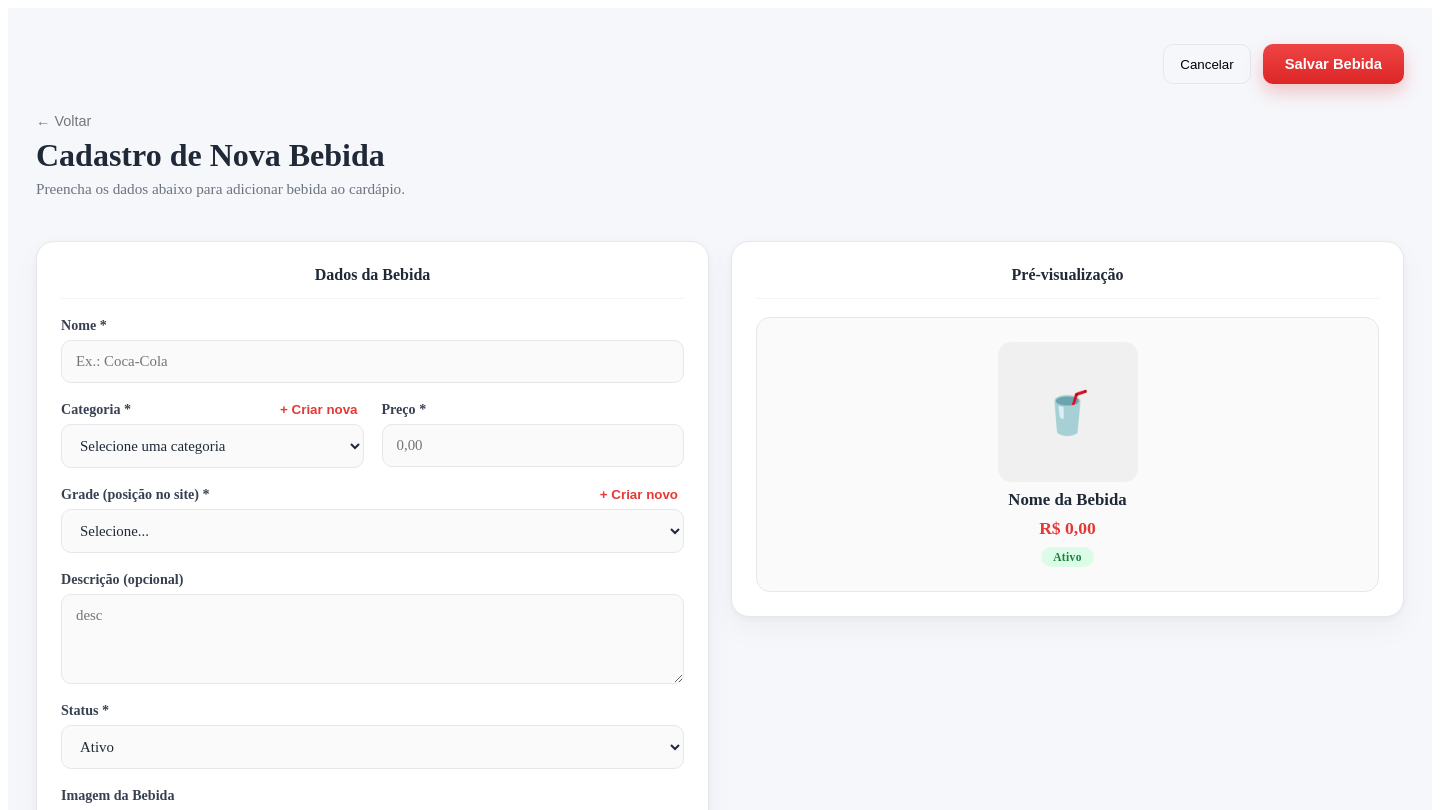
Test: ModalBebida - criação › pré-visualização mostra o preço formatado enquanto digita
Type "8,5" into the field with placeholder "0,00" at (533, 446), box [382,424,684,467]
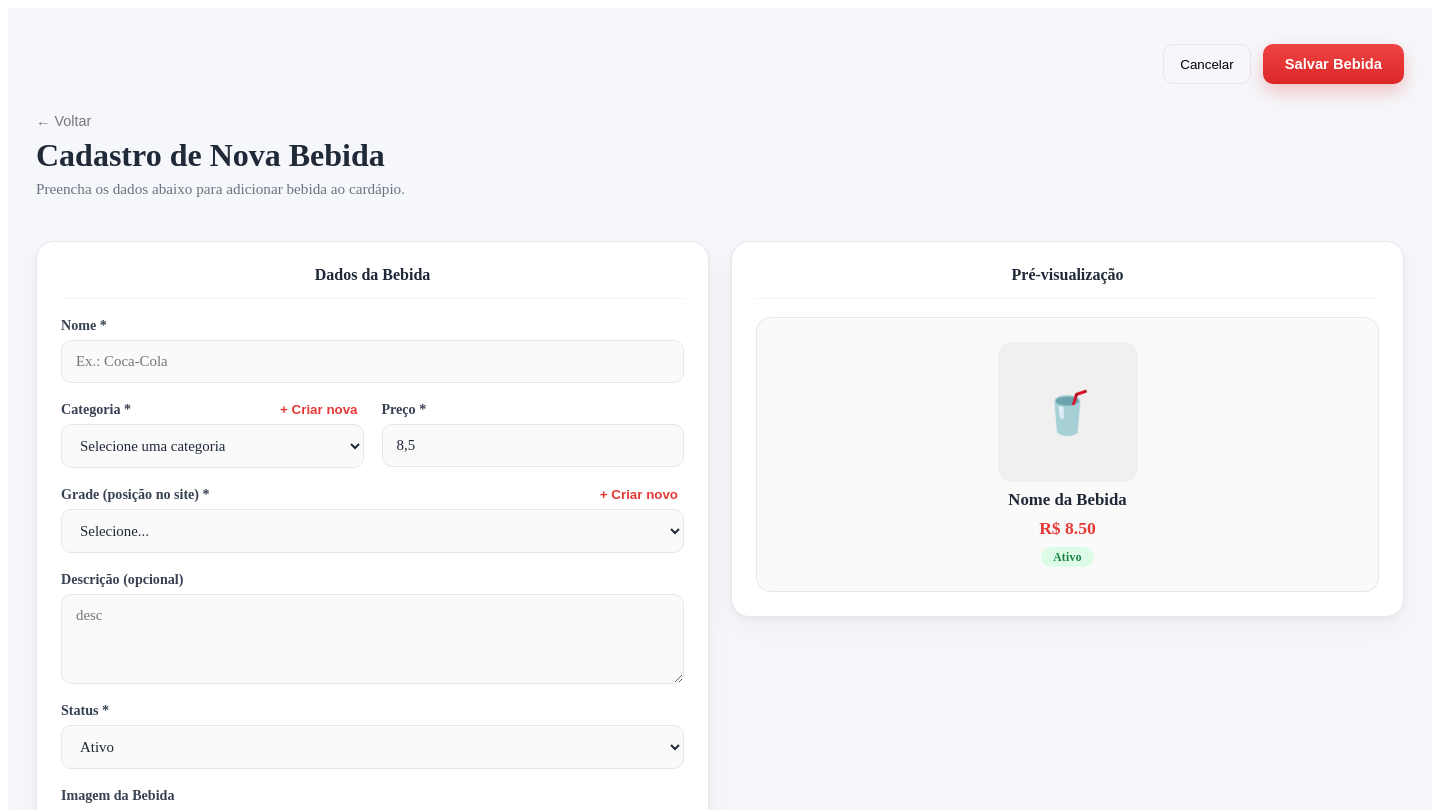
Check: the text "R$ 8.50" is shown, box [1039,518,1096,539]
